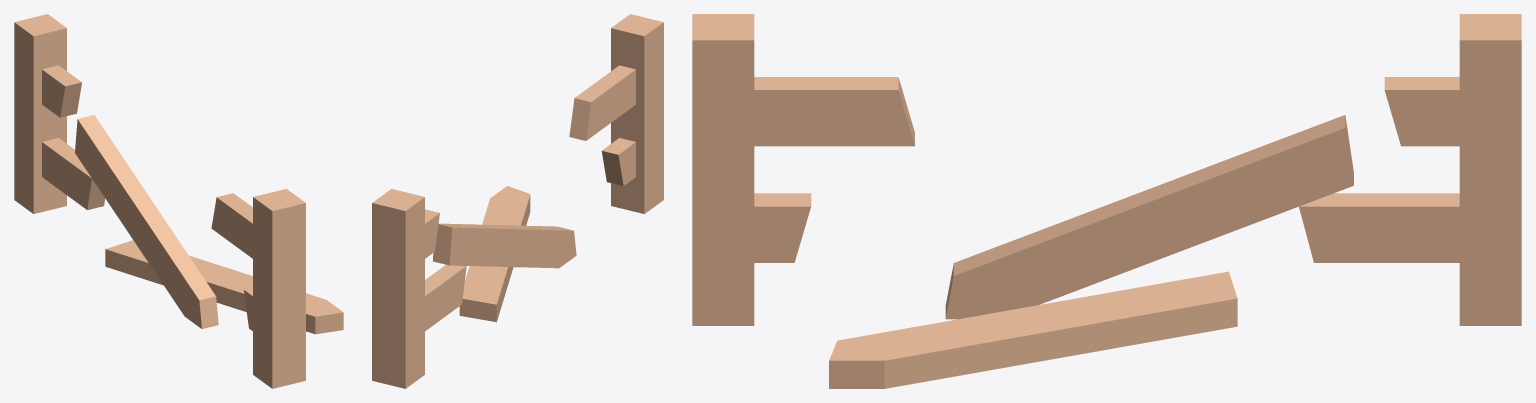
Rendered from fenceBroken.glb.
3 renders of one model, left to right at view 1: azimuth 30°, elevation 25°; view 2: azimuth 150°, elevation 25°; view 3: azimuth 270°, elevation 25°, orthographic. The views are drawn at different scales.
Visible parts, largest first — view 1: fenceBroken; view 2: fenceBroken; view 3: fenceBroken.
Boxes of the visible parts, x1,y1,x2,y2 form: fenceBroken: (14,14,343,388); fenceBroken: (372,14,663,388); fenceBroken: (692,14,1521,388).
Bounding box in the file's own units: 0.2547 × 0.38 × 1.
